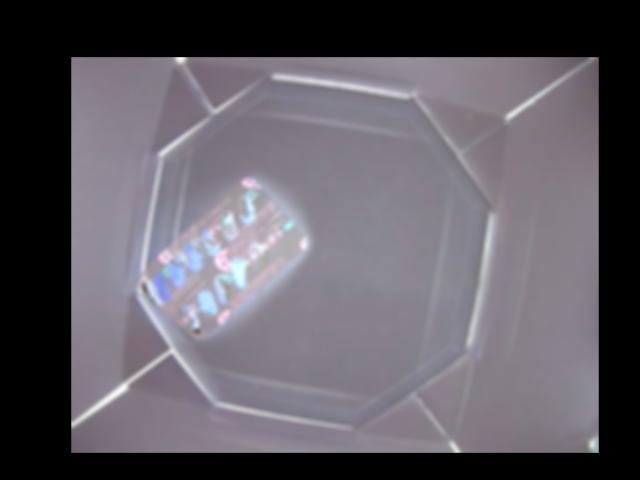Medicine: (136, 175, 310, 335)
